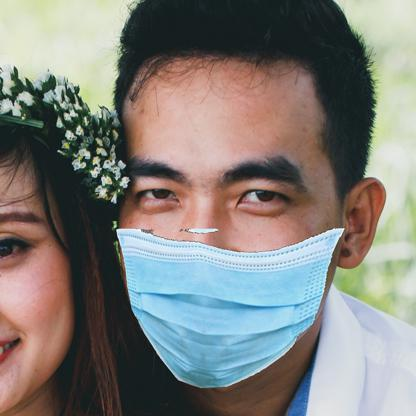mask: (115, 226, 338, 387)
